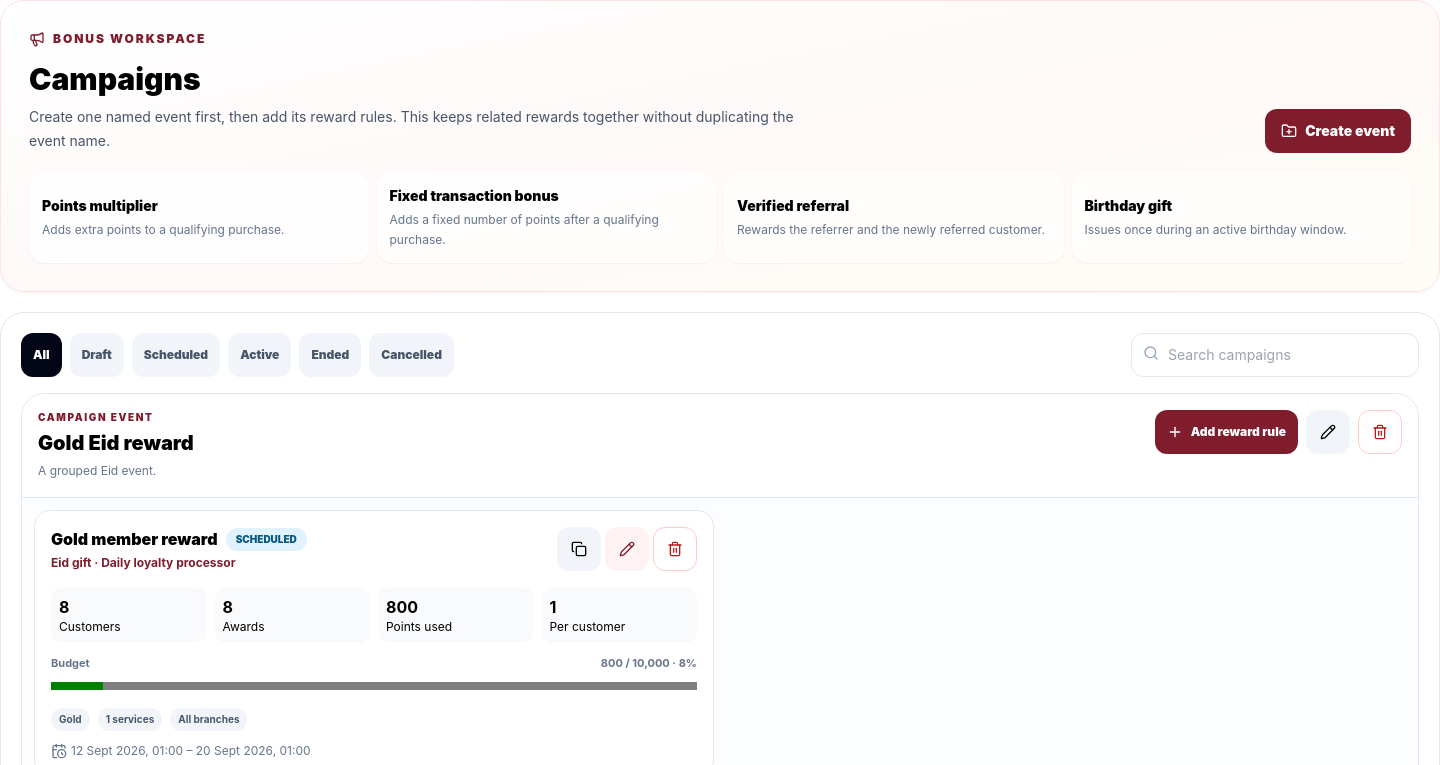
Test: LoyaltyCampaignManager › shows performance, filters and an editable four-part campaign builder
The width and height of the screenshot is (1440, 765).
Check: the heading "Gold Eid reward" is shown, box x1=38 y1=429 x2=194 y2=457
Check: the heading "Gold member reward" is shown, box x1=51 y1=527 x2=218 y2=551
Click the button named "Edit Gold member reward".
click(627, 549)  # box x1=605 y1=527 x2=649 y2=571
(page scrolled)
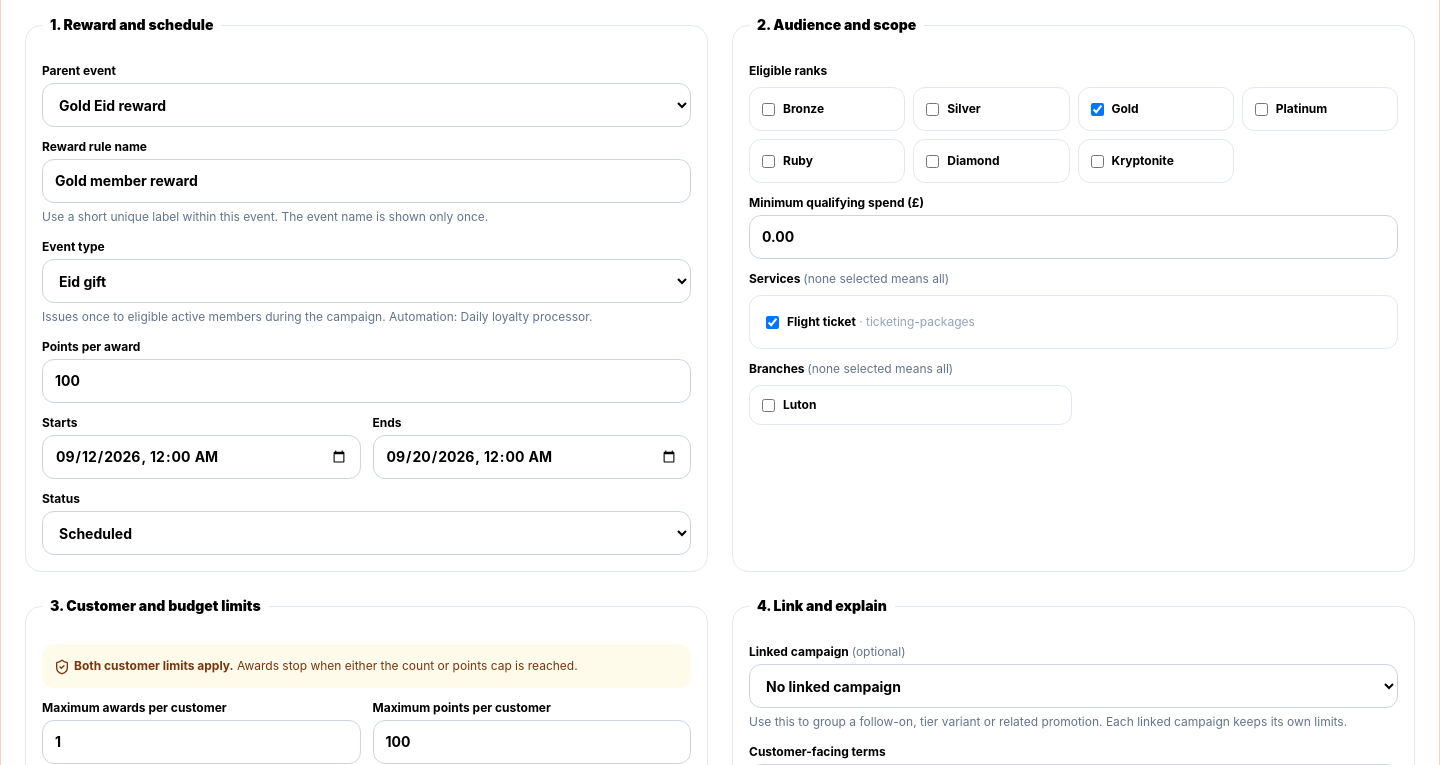
Check: the text "1. Reward and schedule" is shown, box x1=42 y1=15 x2=221 y2=35
Check: the text "2. Audience and scope" is shown, box x1=749 y1=15 x2=924 y2=35
Check: the text "3. Customer and budget limits" is shown, box x1=42 y1=596 x2=269 y2=616
